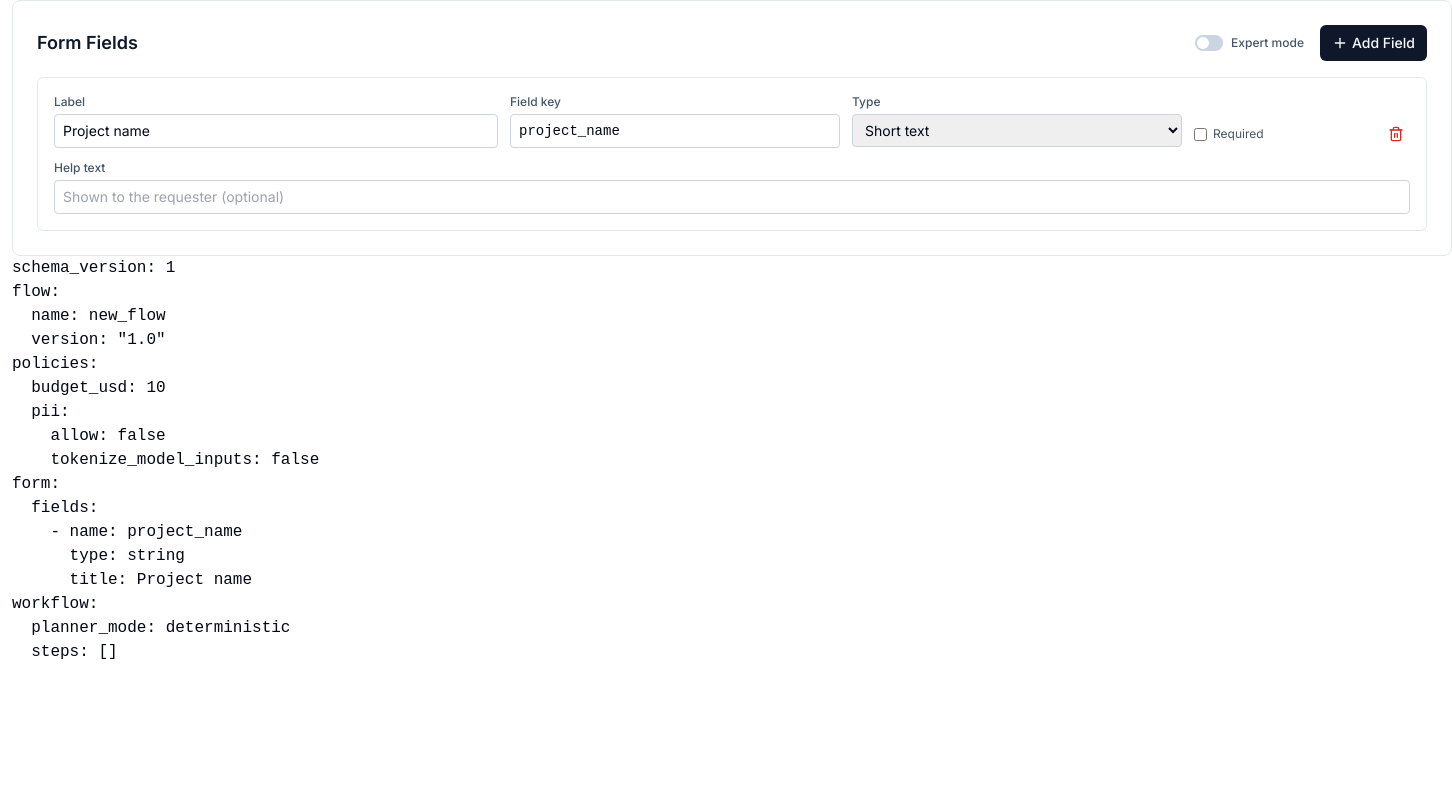
Scenario: Intake form editor — business mode › removes a field
Click the button named "remove field" at (1396, 134), box [1382,120,1410,148]
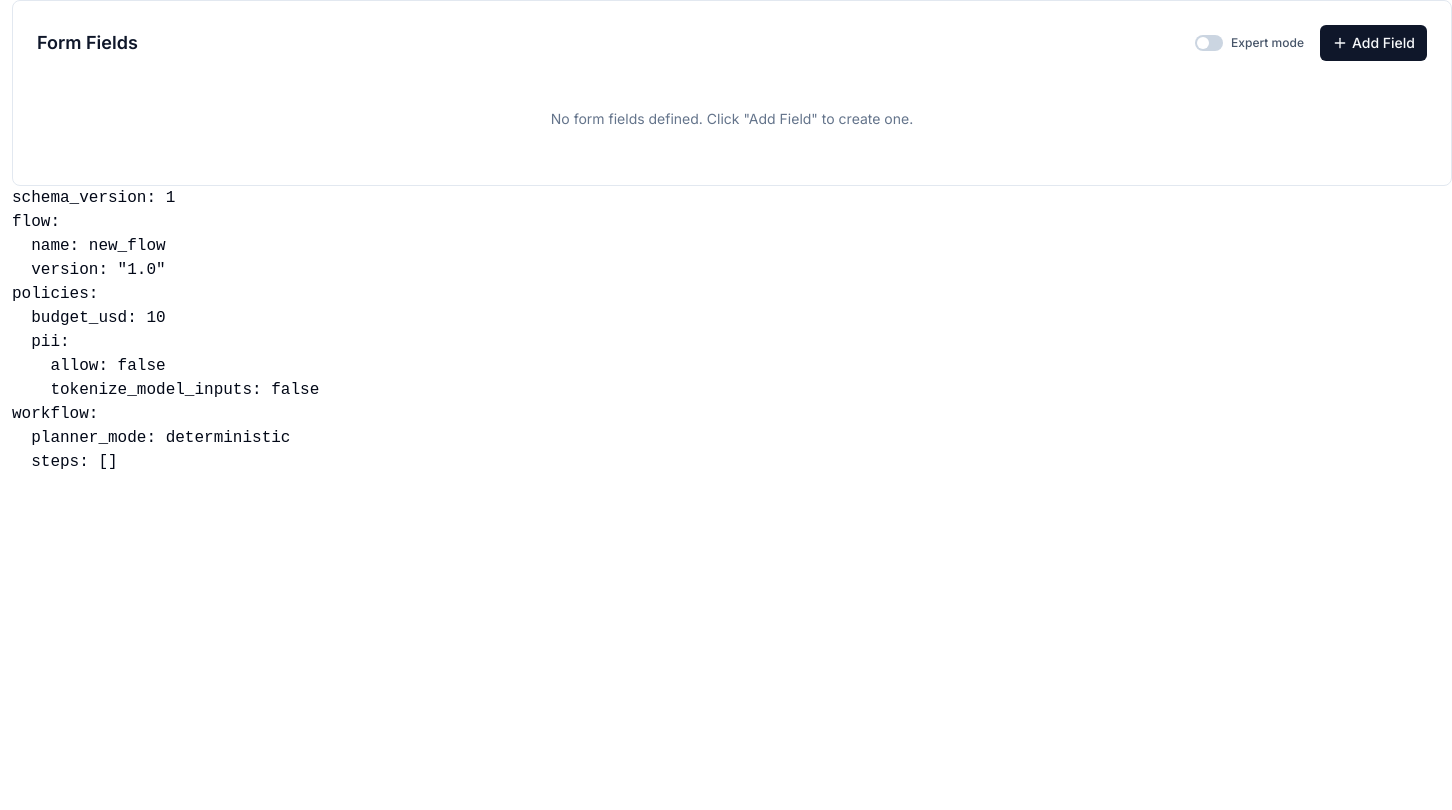
expect the field labelled "Field Label" is gone: met
